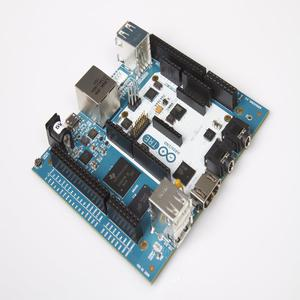duino: (33, 17, 271, 282)
